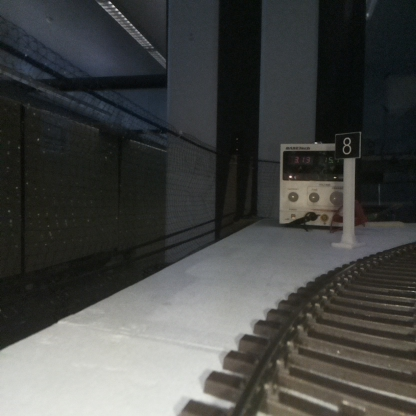black-info-8: (335, 132, 360, 245)
